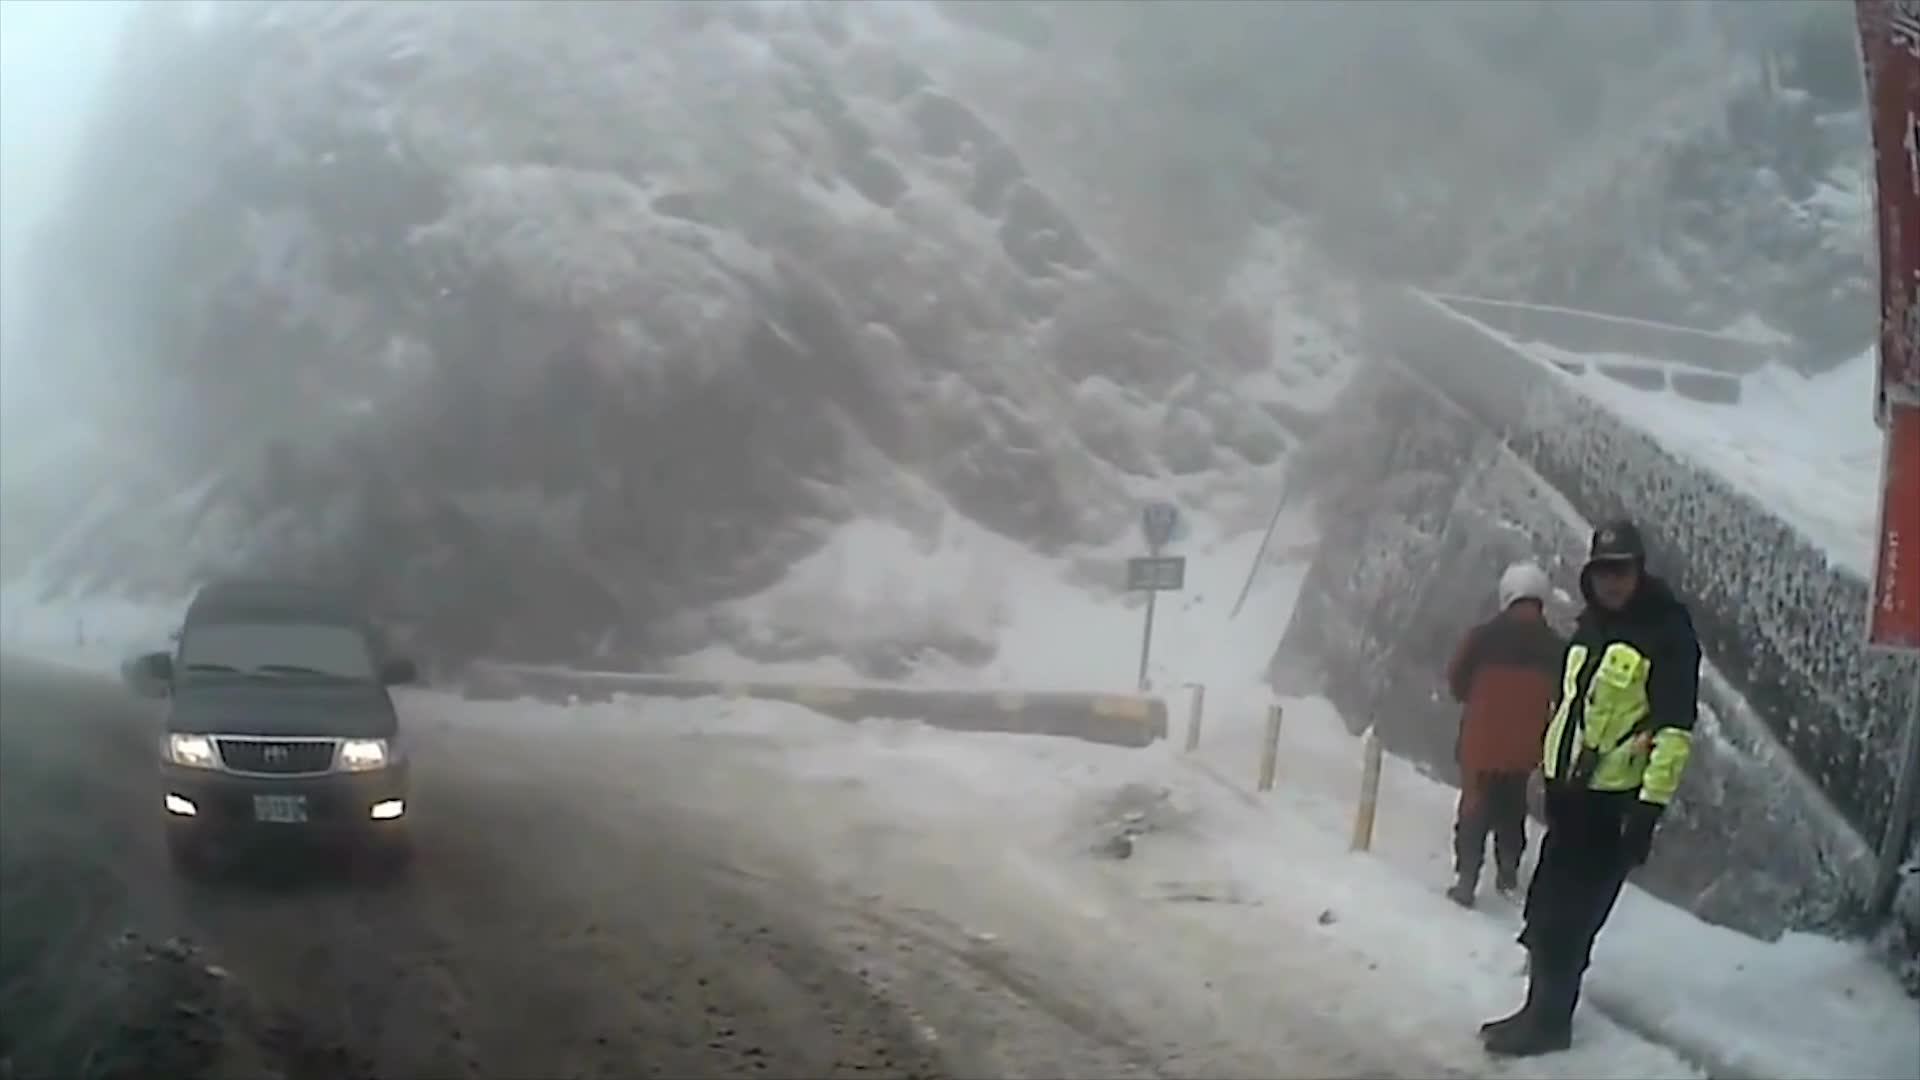pedestrian: (1485, 526, 1708, 1063), (1456, 560, 1582, 892)
vehicle: (144, 579, 415, 876)
